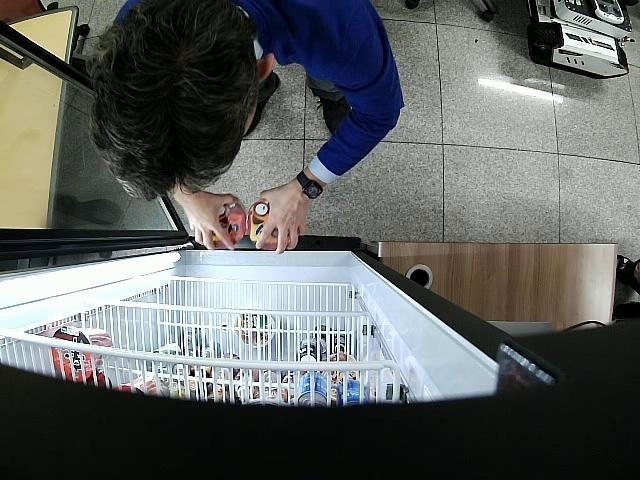05_nuguri_L: (248, 200, 290, 250), (212, 197, 246, 249)
